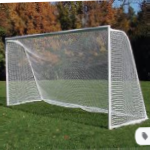goals: (5, 23, 150, 129)
